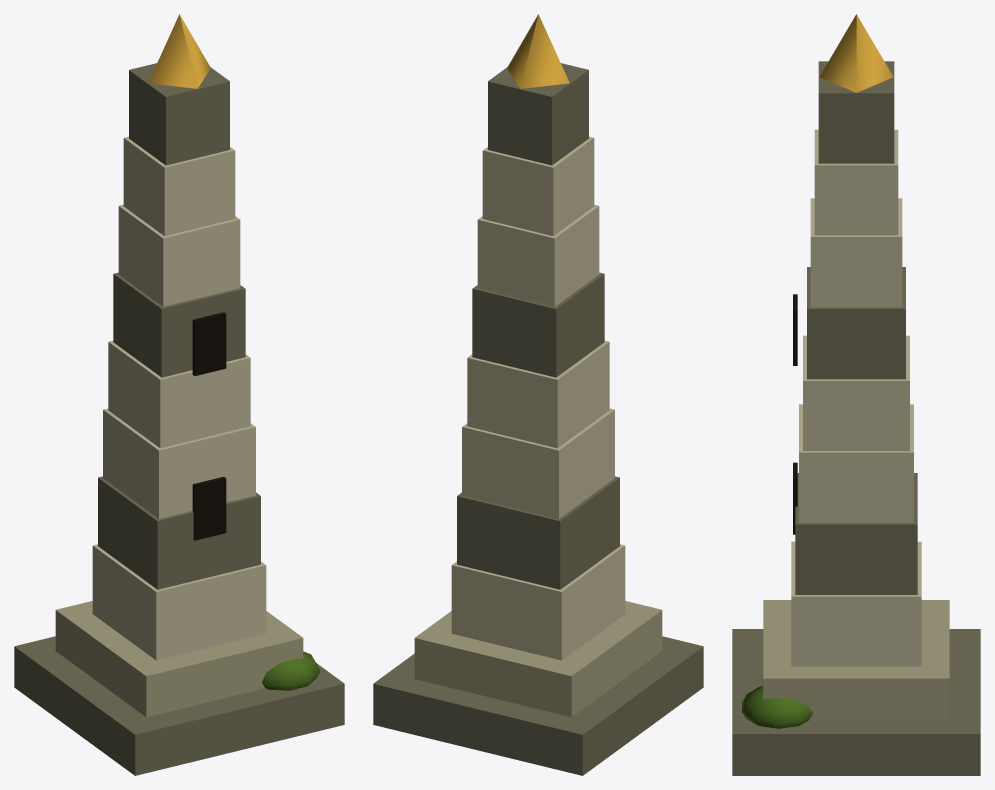
The model's file is jt_obelisk.glb.
3 views of the same model, side by side, from view 1: azimuth 30°, elevation 25°; view 2: azimuth 150°, elevation 25°; view 3: azimuth 270°, elevation 25° (orthographic). The views are drawn at different scales.
Visible parts, largest first — view 1: jt_obelisk; view 2: jt_obelisk; view 3: jt_obelisk.
Boxes of the visible parts, x1,y1,x2,y2 form: jt_obelisk: [14, 14, 344, 775]; jt_obelisk: [373, 14, 703, 775]; jt_obelisk: [732, 14, 980, 775].
Bounding box in the file's own units: 1.6 × 5.05 × 1.6.
